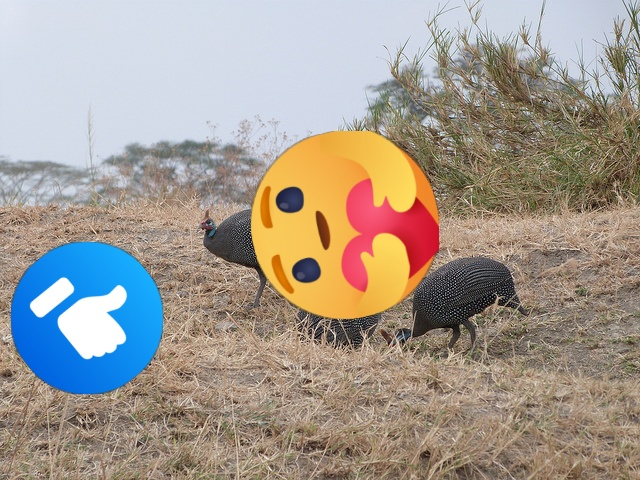care: (251, 131, 439, 319)
like: (11, 242, 163, 394)
